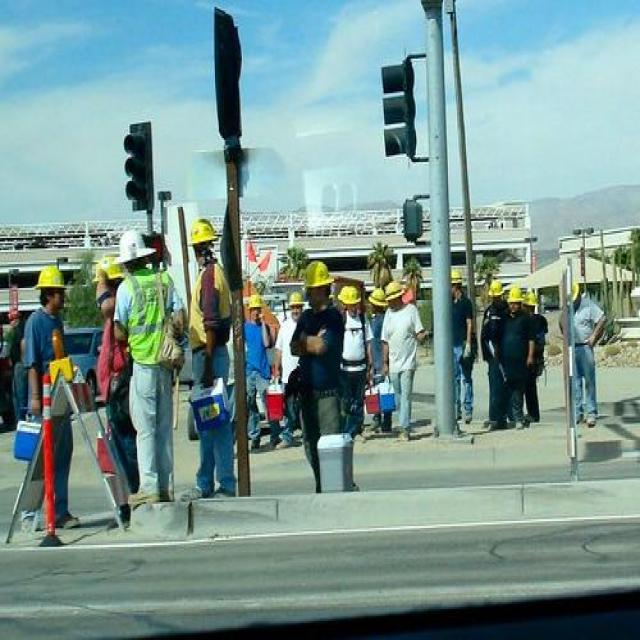Reflective-Jacket: (116, 266, 176, 374), (188, 259, 234, 350)
Safety-Helmet: (115, 226, 156, 266), (301, 257, 335, 290), (33, 260, 68, 292), (187, 214, 220, 247), (95, 252, 125, 281), (337, 281, 364, 305), (507, 281, 525, 304), (248, 292, 264, 315), (488, 278, 506, 298), (288, 292, 303, 310)
